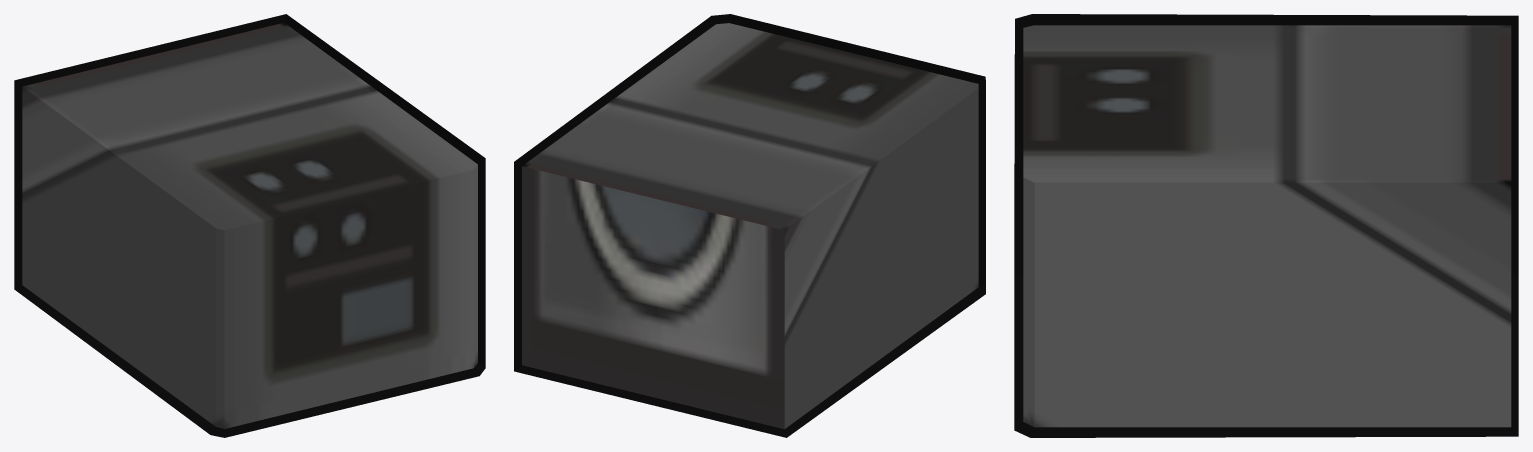
File: Building_Loudspeaker_Things_Building_Misc_Loudspeaker_Loudspeaker.glb
3 renders of one model, left to right at view 1: azimuth 30°, elevation 25°; view 2: azimuth 150°, elevation 25°; view 3: azimuth 270°, elevation 25°, orthographic. The views are drawn at different scales.
Parts seen in each view (by area): view 1: Body, Outline; view 2: Body, Outline; view 3: Body, Outline.
Part boxes in pixels (x1=…): Body: x1=22, y1=22, x2=477, y2=428; Outline: x1=14, y1=14, x2=485, y2=437; Body: x1=522, y1=23, x2=978, y2=429; Outline: x1=514, y1=14, x2=985, y2=437; Body: x1=1023, y1=25, x2=1511, y2=427; Outline: x1=1014, y1=14, x2=1518, y2=437.
Bounding box in the file's own units: 0.9826 × 0.7198 × 1.27.
2 materials, 1 textured.
